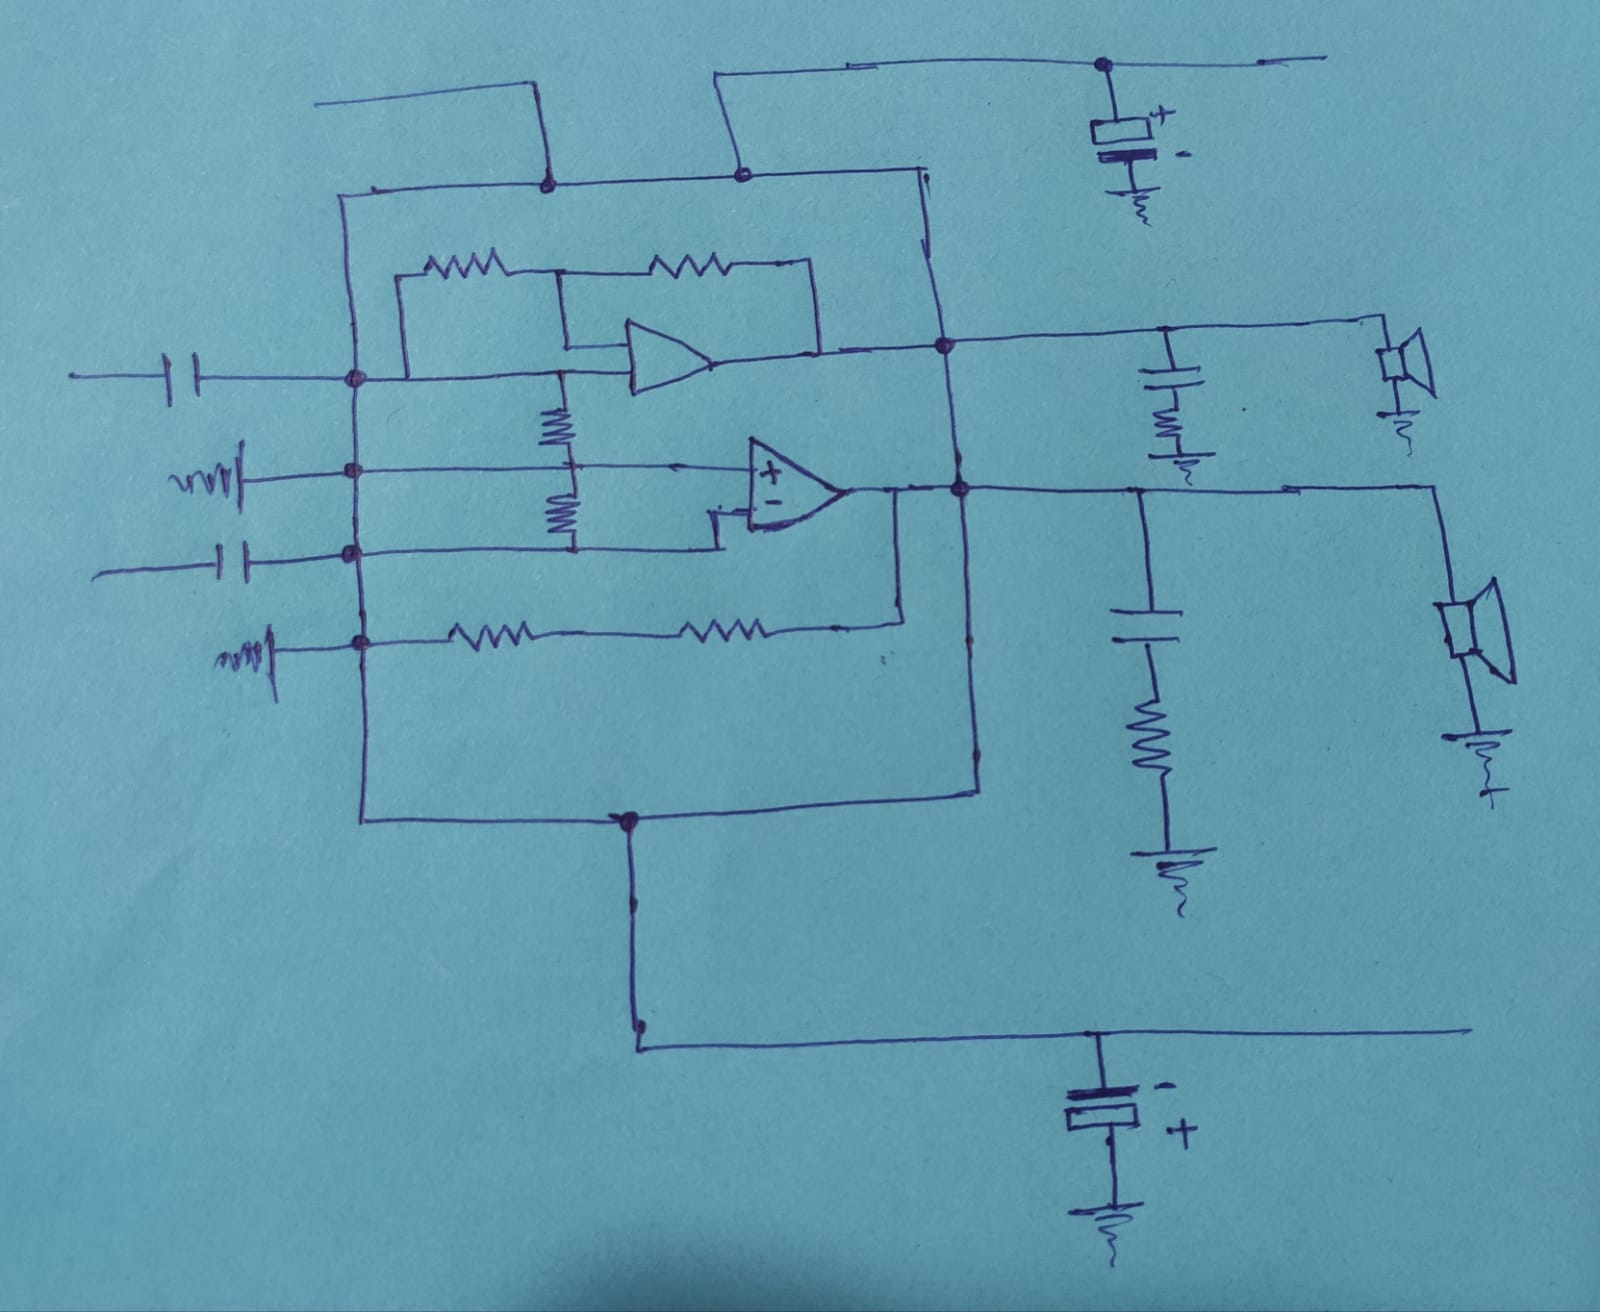capacitor.polarized: (1063, 1079, 1203, 1151), (1091, 100, 1193, 166)
capacitor.unpolarized: (1131, 347, 1212, 397), (1106, 600, 1185, 650), (158, 350, 209, 401), (205, 534, 256, 585)
gnd: (1118, 821, 1237, 923), (166, 437, 251, 510), (1068, 1196, 1146, 1271), (1441, 724, 1514, 802), (209, 619, 283, 686), (1375, 401, 1434, 457), (1142, 443, 1223, 480), (1110, 182, 1167, 229)
junction: (602, 804, 652, 835), (334, 362, 380, 393), (342, 623, 381, 661), (328, 455, 376, 483), (334, 534, 373, 568), (926, 330, 962, 364), (532, 169, 567, 198), (626, 1029, 655, 1063), (945, 475, 977, 505), (1080, 1018, 1114, 1047), (724, 164, 767, 186), (1091, 53, 1123, 78), (1124, 480, 1153, 505), (963, 778, 989, 806), (1152, 316, 1180, 340), (350, 806, 373, 833), (518, 73, 544, 98), (885, 480, 909, 504), (1421, 479, 1445, 502), (546, 261, 569, 284), (1371, 306, 1393, 330), (562, 456, 583, 479), (707, 538, 730, 560), (808, 344, 831, 366), (797, 251, 820, 273), (704, 66, 727, 88), (396, 368, 417, 389), (890, 611, 912, 633), (330, 187, 351, 207), (385, 269, 407, 288), (555, 336, 575, 358), (912, 161, 930, 183), (563, 540, 583, 560), (702, 504, 722, 524), (549, 363, 567, 384)
operational_amplifier: (740, 425, 848, 537), (619, 315, 723, 401)
resistor: (417, 241, 516, 284), (1127, 693, 1176, 778), (536, 479, 595, 542), (533, 391, 583, 455), (444, 619, 540, 653), (641, 249, 735, 280), (678, 611, 771, 643), (1146, 397, 1203, 448)
speaker: (1437, 580, 1523, 687), (1375, 323, 1445, 389)
terminal: (1450, 1020, 1484, 1046), (1308, 47, 1337, 68), (85, 564, 110, 585), (306, 94, 332, 113), (58, 366, 85, 384)
